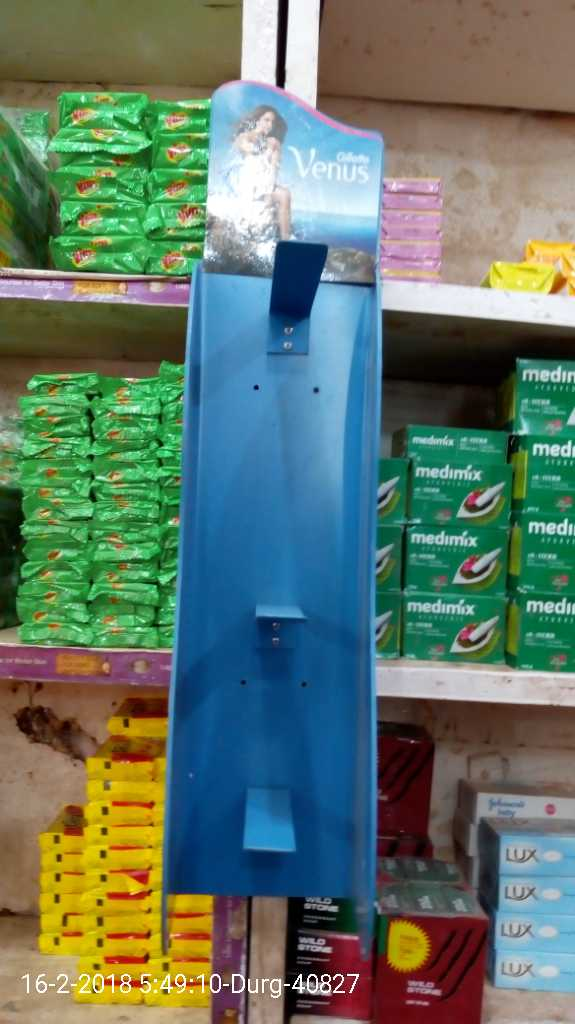reject: (245, 475, 329, 555)
